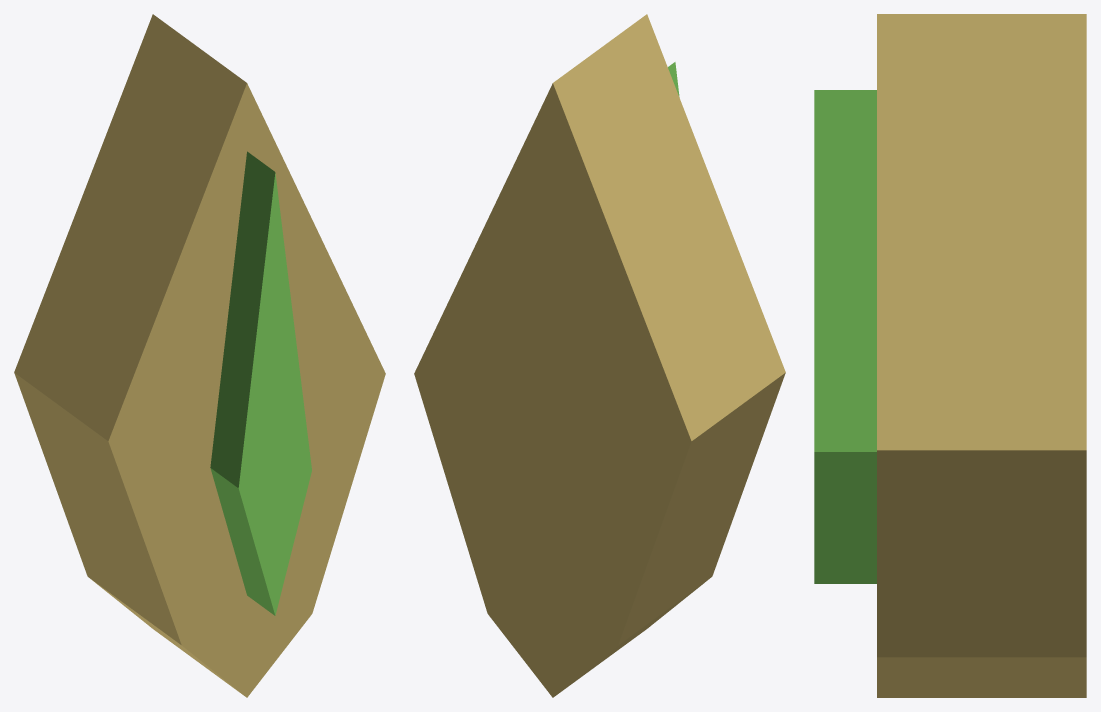
The model's file is spearhead.obj.
The picture shows the model from 3 angles, left to right: view 1: azimuth 30°, elevation 25°; view 2: azimuth 150°, elevation 25°; view 3: azimuth 270°, elevation 25°; orthographic projection. The views are drawn at different scales.
Visible parts, largest first — view 1: spearhead, spearhead_edge, spear_ridge, spear_ridge_edge; view 2: spearhead, spearhead_edge; view 3: spearhead_edge, spear_ridge_edge.
Part boxes in pixels (x1,y1,x2,y2): spearhead: (108, 83, 385, 697); spearhead_edge: (14, 14, 246, 695); spear_ridge: (238, 173, 311, 615); spear_ridge_edge: (210, 151, 275, 615); spearhead: (414, 83, 691, 697); spearhead_edge: (553, 14, 785, 695); spearhead_edge: (877, 14, 1086, 697); spear_ridge_edge: (814, 90, 876, 583).
Bounding box in the file's own units: 0.34 × 0.72 × 0.26.
